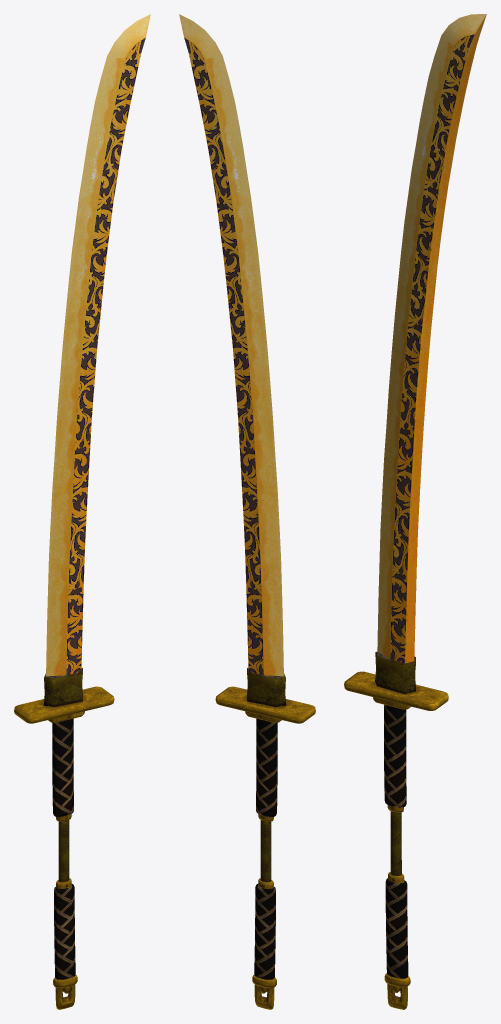
The model's file is bs_swo008.obj.
3 renders of one model, left to right at view 1: azimuth 30°, elevation 25°; view 2: azimuth 150°, elevation 25°; view 3: azimuth 330°, elevation 25°, orthographic. The views are drawn at different scales.
Parts seen in each view (by area): view 1: bs_swo008_000_LOD_1; view 2: bs_swo008_000_LOD_1; view 3: bs_swo008_000_LOD_1.
Boxes of the visible parts, x1,y1,x2,y2 form: bs_swo008_000_LOD_1: (14,14,150,1009); bs_swo008_000_LOD_1: (179,14,315,1009); bs_swo008_000_LOD_1: (344,14,486,1009).
Size of the model in its own units: 40.33 by 287 by 8.86.
